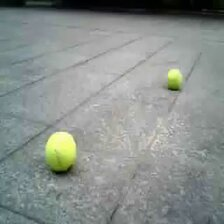tennis: (45, 133, 77, 171), (166, 69, 181, 88)
